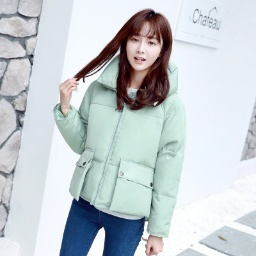face: (77, 8, 178, 109)
